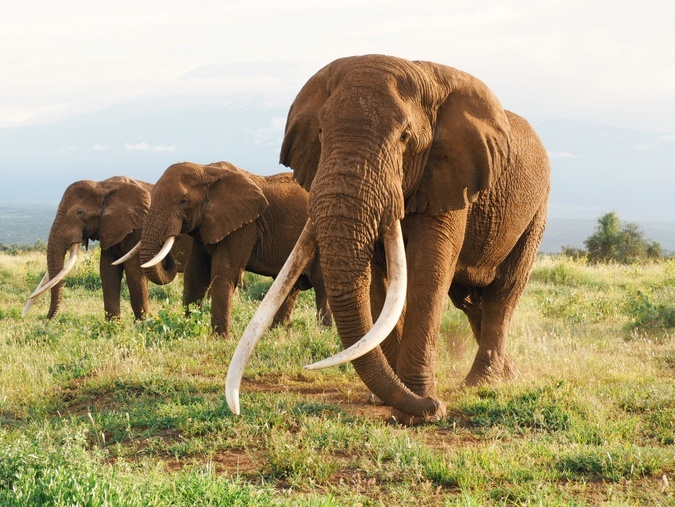elephant: (220, 52, 551, 421), (111, 155, 332, 343), (27, 178, 156, 326)
